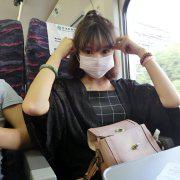OK: (79, 44, 115, 80)
